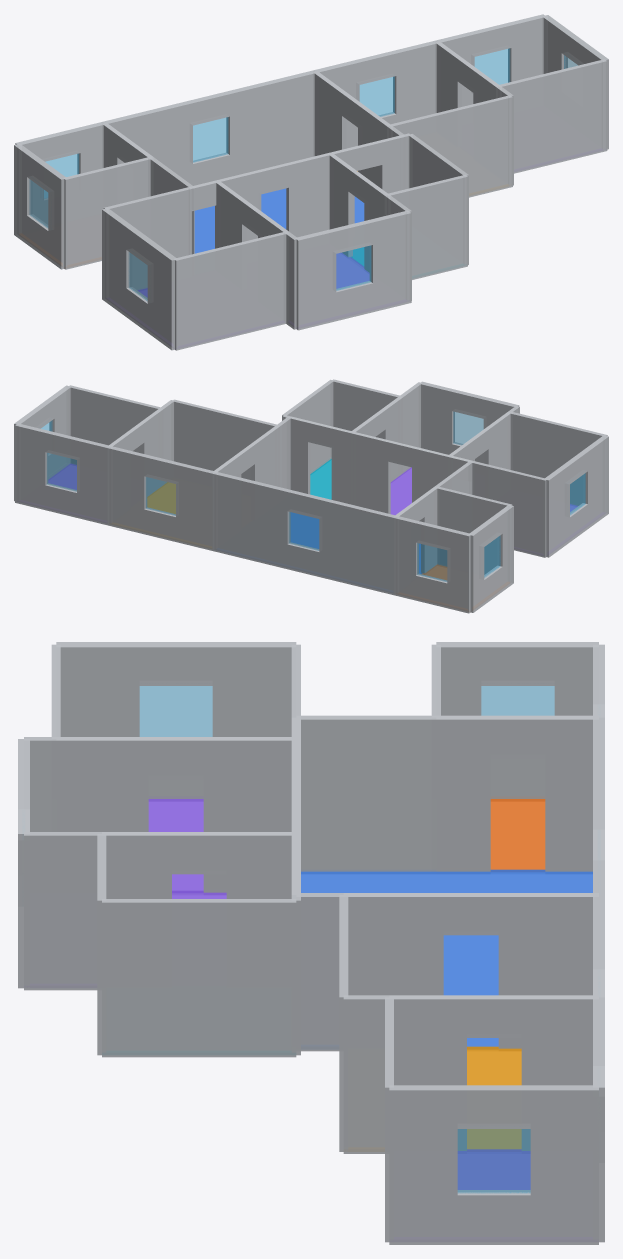
3 views of the same model, one above another, from view 1: azimuth 30°, elevation 25°; view 2: azimuth 150°, elevation 25°; view 3: azimuth 270°, elevation 25° (orthographic). The views are drawn at different scales.
Size of the model in its own units: 17.41 by 2.8 by 9.64.
